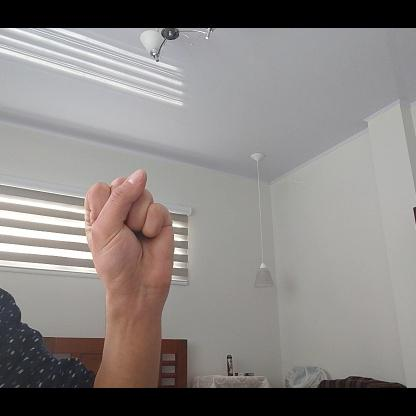S: (83, 167, 176, 303)
